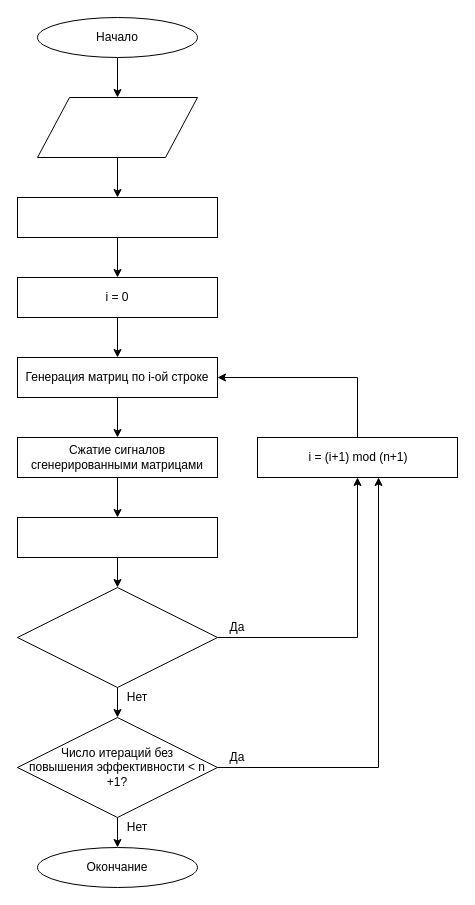
The diagram is 475 pixels wide and 905 high, and some of its shapes have lost their labels. Here are the shapes that lost their labels. From the top down, the box of each, then its label:
(36, 96, 198, 158): Ввести подготовленный набор сигналов
(16, 196, 218, 238): Генерация матрицы ДПФ
(16, 516, 218, 558): Выбор наиболее эффективной матрицы из сгенерированных
(16, 586, 218, 688): Эффективнее матрицы на предыдущем шаге?
